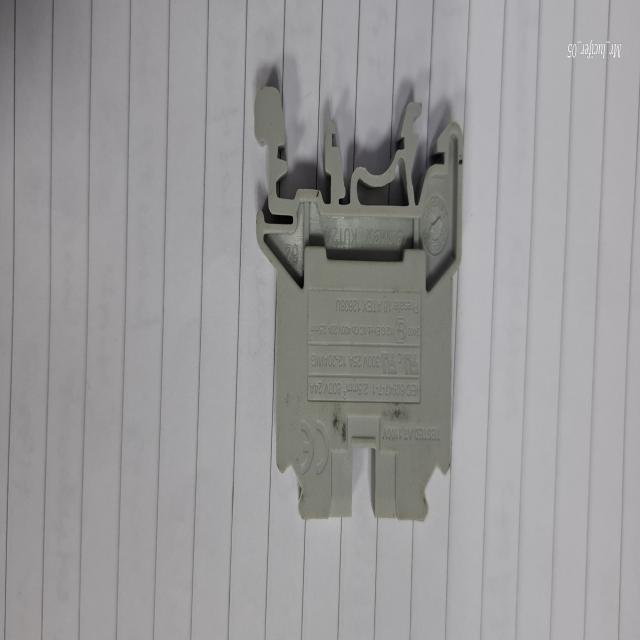Inverted: (248, 64, 462, 530)
